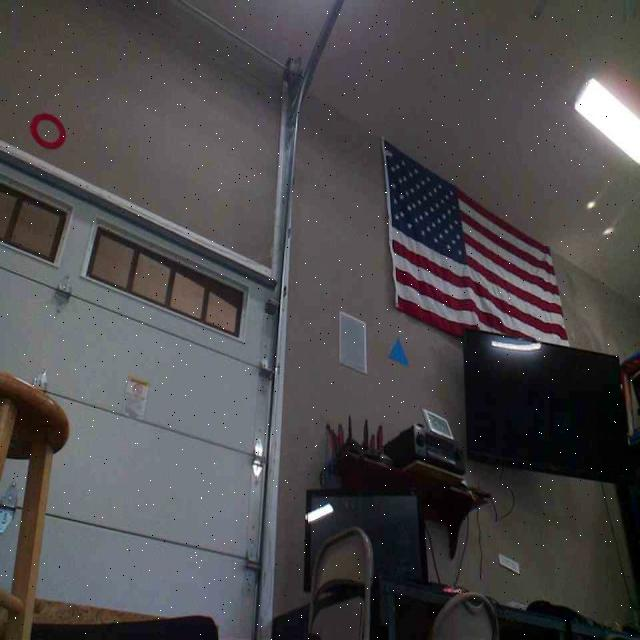ring_red: (28, 112, 67, 147)
triangle_blue: (388, 337, 408, 367)
